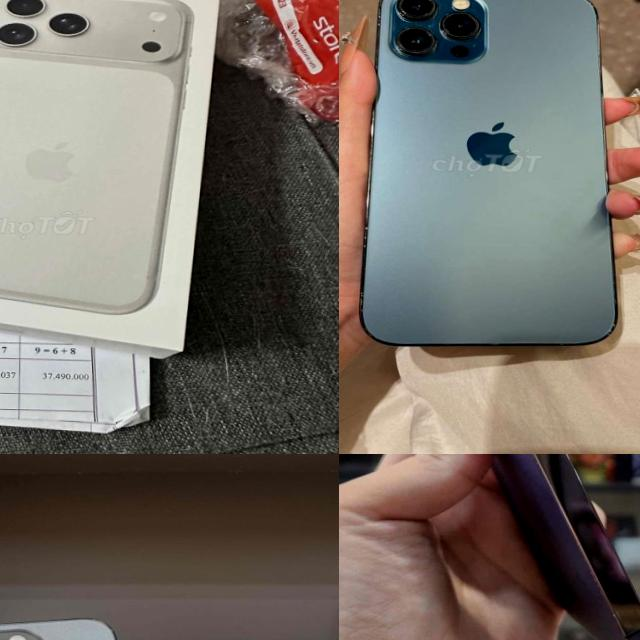gen_12_13: (358, 0, 631, 357)
gen_14: (344, 454, 640, 640)
gen_17: (0, 0, 193, 315)
